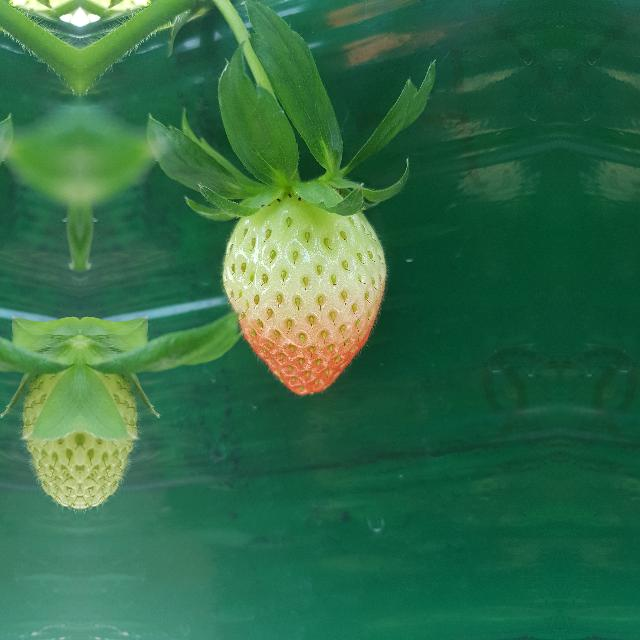Health_25: (80, 358, 142, 510), (18, 358, 80, 510)
Health_50: (220, 194, 386, 396)
